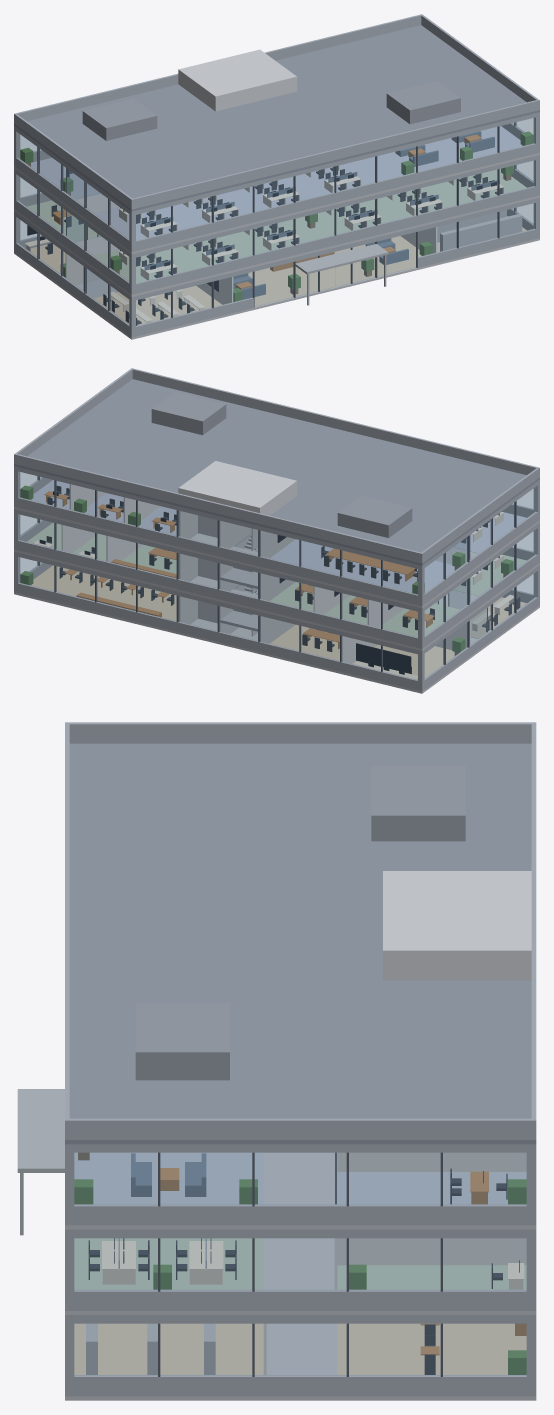
File: office-3f.glb
The picture shows the model from 3 angles, top to bottom: view 1: azimuth 30°, elevation 25°; view 2: azimuth 150°, elevation 25°; view 3: azimuth 270°, elevation 25°; orthographic projection. The views are drawn at different scales.
Visible parts, largest first — view 1: Roof_Roof, F1_Glass, F3_Glass, F2_Glass, Roof_Facade, F2_Facade, F3_Facade, F1_Facade, F3_Carpet, F2_Carpet, F1_Carpet, Roof_Core (+22 smaller); view 2: Roof_Roof, F1_Glass, F2_Glass, F3_Glass, Roof_Facade, F2_Facade, F3_Facade, F1_Facade, F3_Carpet, F1_Carpet, Roof_Equipment, F2_Carpet (+24 smaller); view 3: Roof_Roof, Roof_Facade, F2_Glass, F3_Glass, F1_Glass, F1_Carpet, Roof_Core, F2_Facade, F1_Facade, F3_Facade, Roof_Equipment, F3_Carpet (+13 smaller).
Part boxes in pixels (box(x1,y1,x2,y2)): Roof_Roof: box(14, 25, 539, 211); F1_Glass: box(17, 203, 535, 326); F3_Glass: box(17, 118, 535, 240); F2_Glass: box(17, 160, 535, 283); Roof_Facade: box(14, 14, 539, 209); F2_Facade: box(14, 155, 539, 294); F3_Facade: box(14, 112, 539, 251); F1_Facade: box(14, 197, 539, 337); F3_Carpet: box(31, 126, 522, 240); F2_Carpet: box(27, 168, 526, 282); F1_Carpet: box(31, 216, 526, 325); Roof_Core: box(178, 49, 297, 111); Roof_Roof: box(14, 379, 539, 565); F1_Glass: box(18, 557, 536, 680); F2_Glass: box(18, 514, 536, 637); F3_Glass: box(18, 472, 536, 594); Roof_Facade: box(14, 368, 539, 563); F2_Facade: box(14, 509, 539, 648); F3_Facade: box(14, 466, 539, 605); F1_Facade: box(14, 551, 539, 691); F3_Carpet: box(31, 480, 526, 592); F1_Carpet: box(31, 565, 526, 677); Roof_Equipment: box(151, 392, 412, 537); F2_Carpet: box(27, 522, 526, 636); Roof_Roof: box(65, 743, 536, 1144); Roof_Facade: box(65, 722, 536, 1139); F2_Glass: box(67, 1238, 534, 1291); F3_Glass: box(67, 1153, 534, 1205); F1_Glass: box(67, 1324, 534, 1376); F1_Carpet: box(74, 1323, 526, 1374); Roof_Core: box(383, 871, 531, 980); F2_Facade: box(65, 1229, 536, 1310); F1_Facade: box(65, 1315, 536, 1396); F3_Facade: box(65, 1144, 536, 1225); Roof_Equipment: box(135, 765, 465, 1080); F3_Carpet: box(74, 1152, 526, 1204).
Size of the model in its own units: 40 by 13.6 by 22.
